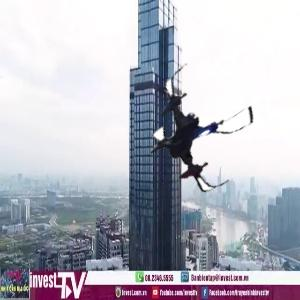drone: (137, 64, 267, 194)
